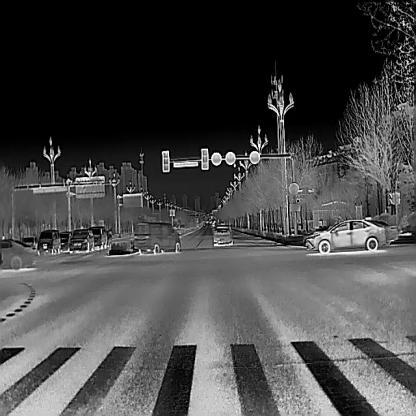car: (305, 216, 385, 253), (133, 221, 180, 253), (0, 239, 38, 269), (364, 217, 396, 244), (68, 228, 93, 255), (37, 228, 61, 254), (212, 224, 233, 248), (89, 225, 108, 249), (59, 229, 70, 252)
crosswalk: (0, 334, 416, 416)
